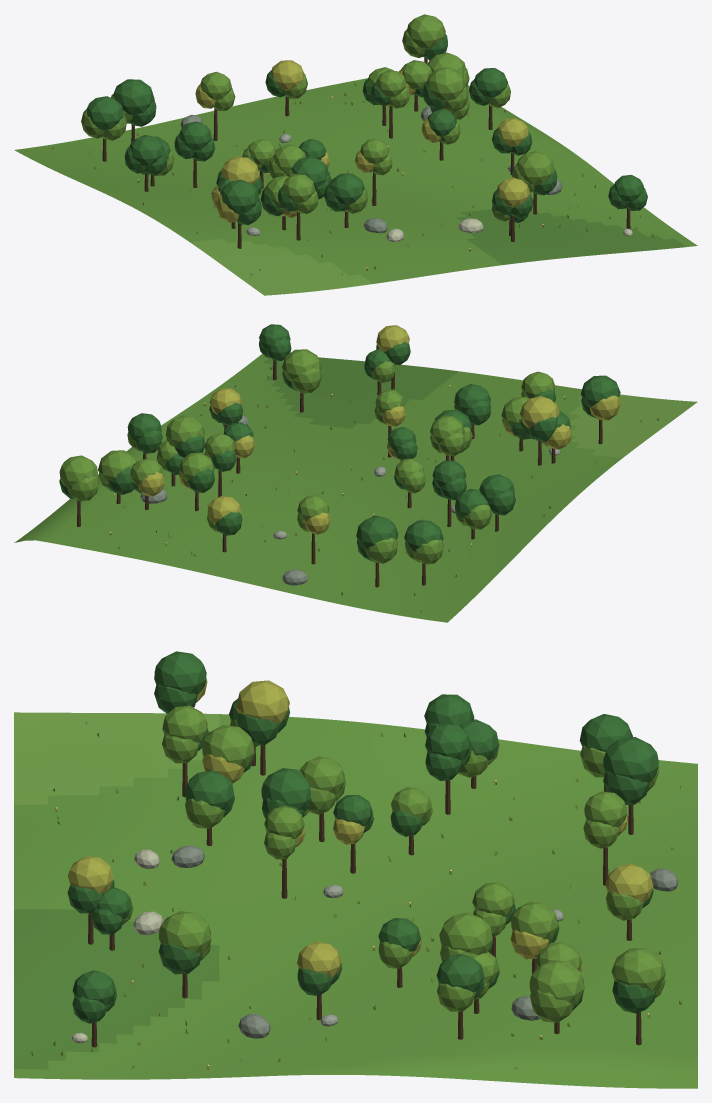
File: Chunk_X-1_Y0_Z-2.fbx
3 views of the same model, one above another, from view 1: azimuth 30°, elevation 25°; view 2: azimuth 150°, elevation 25°; view 3: azimuth 270°, elevation 25° (orthographic). The views are drawn at different scales.
Parts seen in each view (by area): view 1: Terrain.015, Canopies.015, Trunks.015, Rocks.015, GroundCover.015; view 2: Terrain.015, Canopies.015, Trunks.015, Rocks.015, GroundCover.015; view 3: Terrain.015, Canopies.015, Rocks.015, Trunks.015, GroundCover.015.
Boxes of the visible parts, x1,y1,x2,y2 form: Terrain.015: [14, 78, 697, 295]; Canopies.015: [81, 14, 647, 224]; Trunks.015: [102, 57, 630, 248]; Rocks.015: [180, 106, 632, 241]; GroundCover.015: [52, 83, 665, 275]; Terrain.015: [14, 354, 697, 622]; Canopies.015: [59, 324, 620, 564]; Trunks.015: [77, 360, 602, 587]; Rocks.015: [140, 372, 560, 585]; GroundCover.015: [109, 359, 658, 612]; Terrain.015: [14, 712, 697, 1088]; Canopies.015: [67, 651, 665, 1023]; Rocks.015: [71, 845, 678, 1043]; Trunks.015: [88, 745, 641, 1047]; GroundCover.015: [31, 721, 681, 1069].
Size of the model in its own units: 100 by 27.43 by 100.
